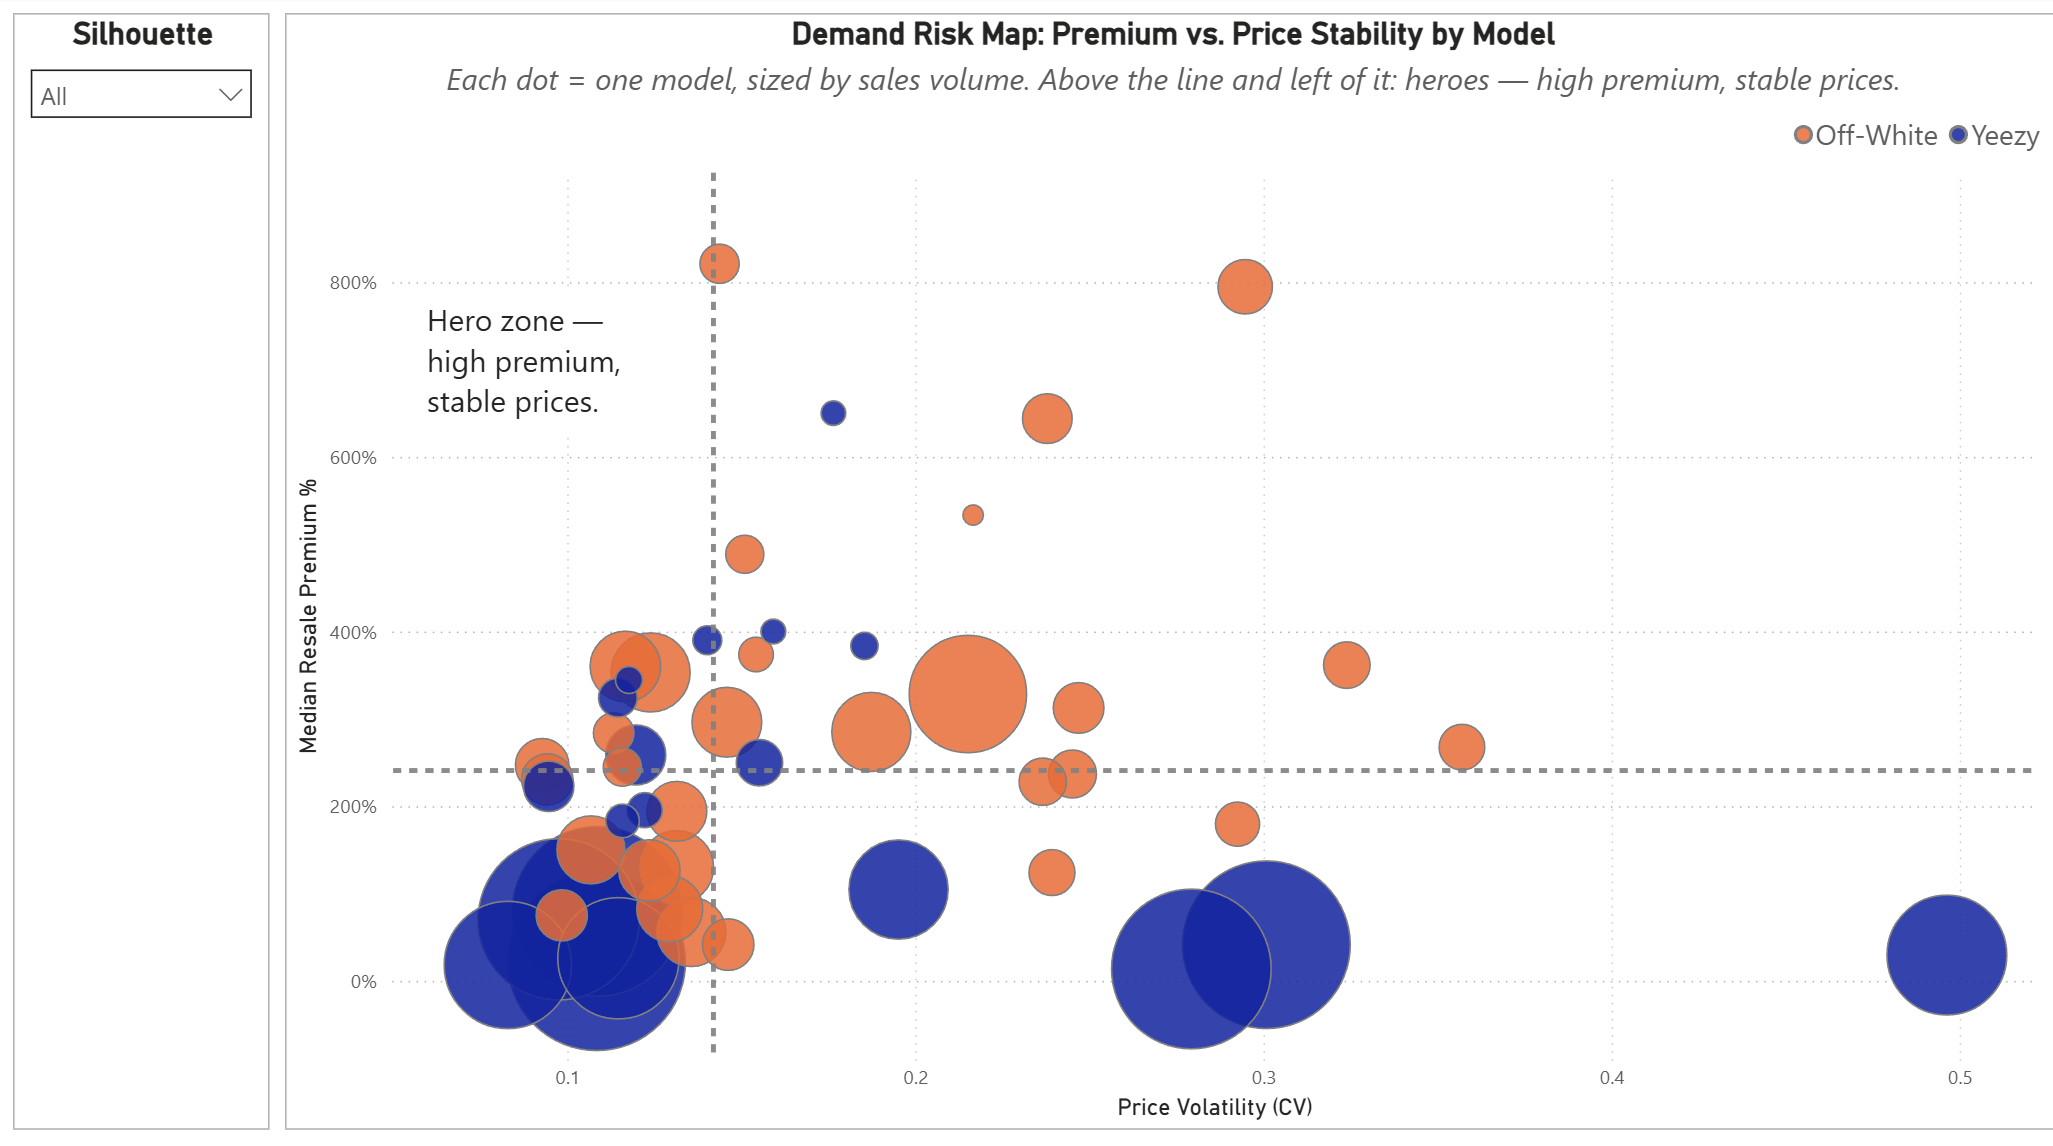

The dashboard page shown, as its layout file describes it:
{"tool":"powerbi","page":{"name":"Stability Map","canvas":[1280,720],"ordinal":3},"visuals":[{"type":"scatterChart","title":"Demand Risk Map: Premium vs. Price Stability by Model","fields":{"Category":["dim_sneaker.sneaker_name"],"X":["fact_sales.Price Volatility (CV)"],"Y":["fact_sales.Median Resale Premium %"],"Size":["fact_sales.Sales Volume"],"Series":["dim_sneaker.brand"]},"box":[221.3,10,1052.7,692],"z":0},{"type":"slicer","title":"Silhouette","fields":{"Values":["dim_sneaker.silhouette"]},"box":[12.7,10,194,692],"z":1000}]}

Visuals, with their boxes in screenshot pixels (x1, y1, x2, y2), scaled from the page's 1280x720 canvas onto the 2053x1146 screenshot:
"Demand Risk Map: Premium vs. Price Stability by Model" scatterChart: bbox(355, 16, 2043, 1117)
"Silhouette" slicer: bbox(20, 16, 332, 1117)
